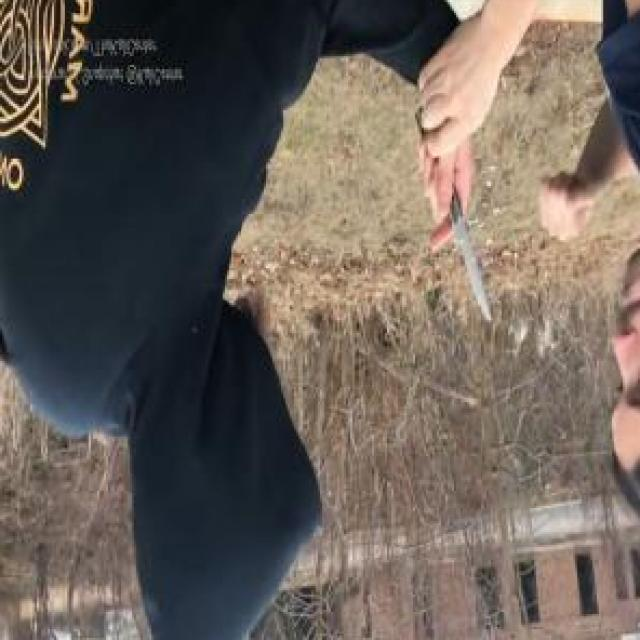knife: (413, 108, 499, 333)
